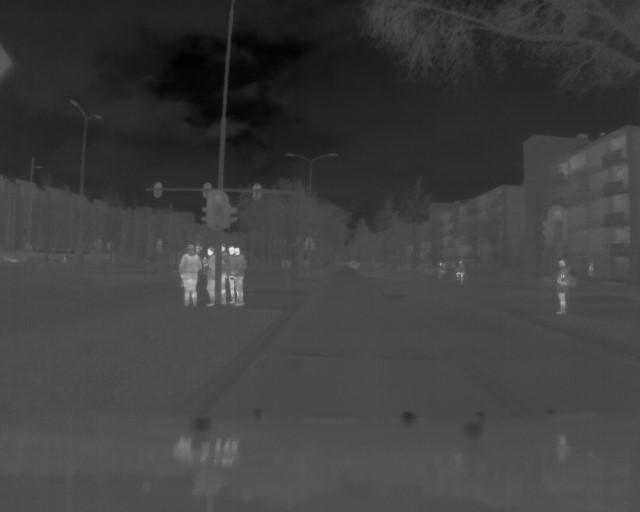person: (178, 241, 200, 305), (555, 256, 574, 315), (233, 245, 248, 305), (218, 242, 232, 305), (205, 244, 216, 306), (458, 259, 466, 284)
